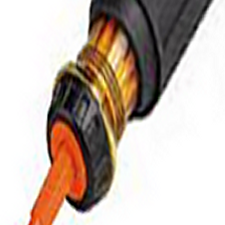Screwdriver: (28, 1, 211, 225)
